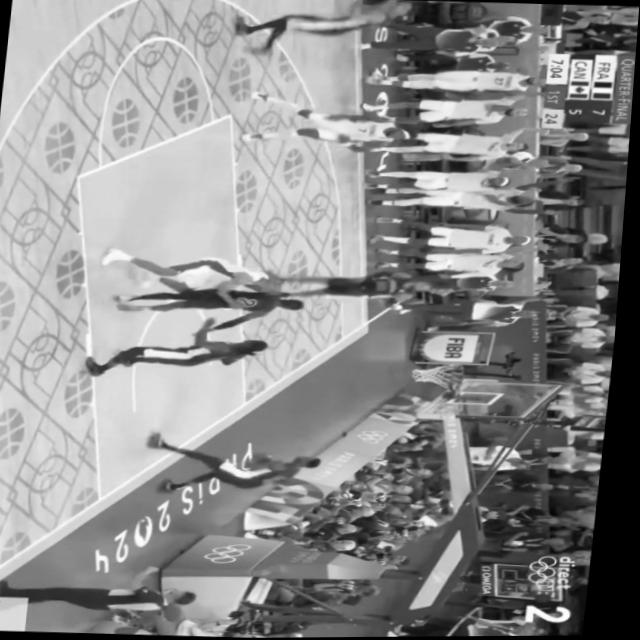ball_handler: (141, 428, 331, 500)
